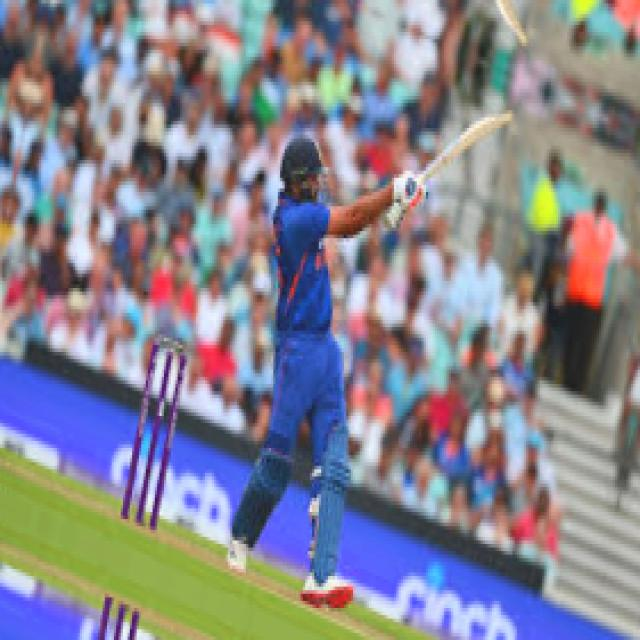toe: (494, 107, 520, 126)
